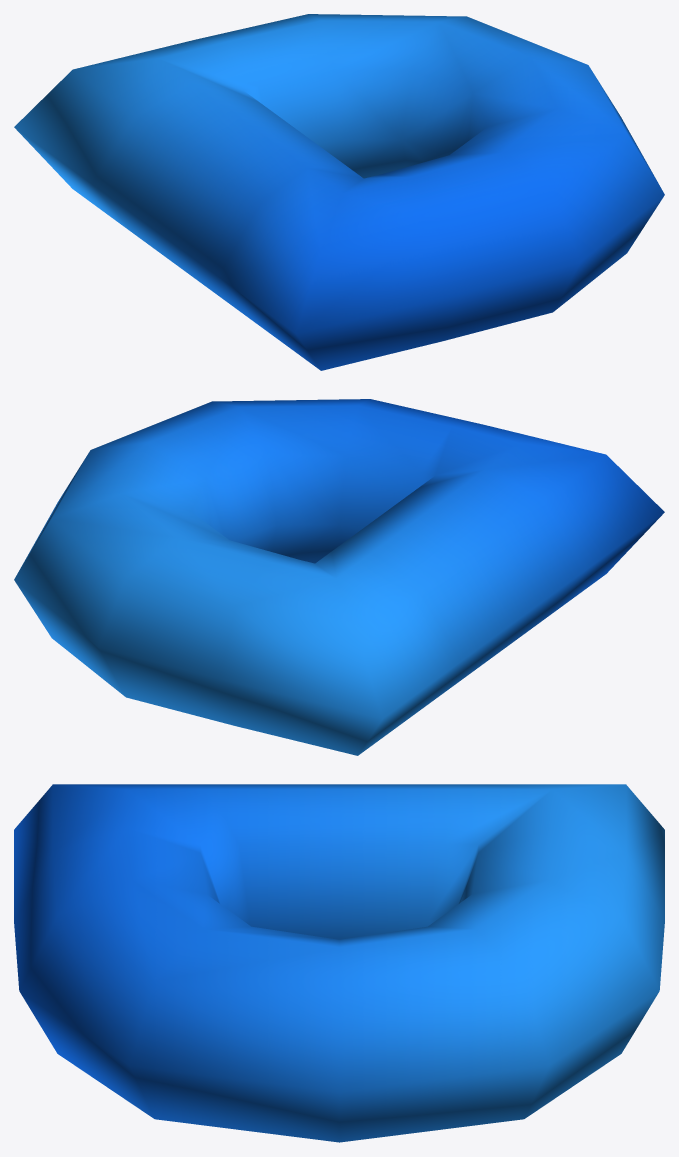
The model's file is CartoonFont_D.FBX.
The picture shows the model from 3 angles, top to bottom: view 1: azimuth 30°, elevation 25°; view 2: azimuth 150°, elevation 25°; view 3: azimuth 270°, elevation 25°; orthographic projection. The views are drawn at different scales.
Visible parts, largest first — view 1: D; view 2: D; view 3: D.
Part boxes in pixels (bbox=[...]): D: bbox=[14, 14, 664, 370]; D: bbox=[14, 399, 664, 755]; D: bbox=[14, 784, 664, 1142].
Size of the model in its own units: 28 by 9.33 by 29.38.
Materials: 1 (1 with a texture image).
